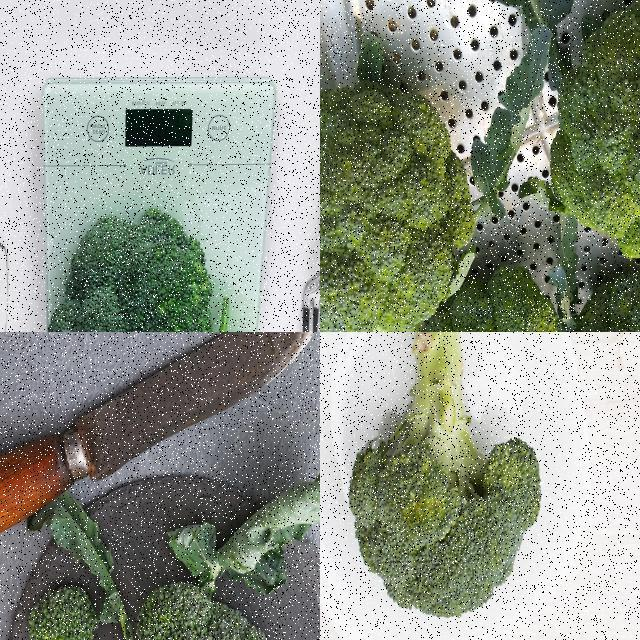broccoli: (346, 332, 545, 631), (320, 79, 478, 331), (37, 201, 277, 331), (551, 6, 639, 268), (399, 260, 568, 331)
